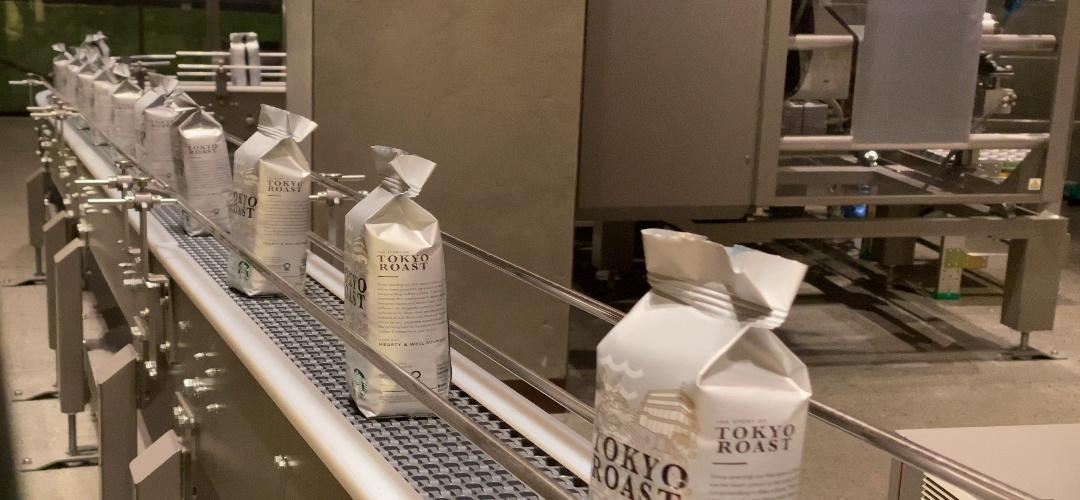conveyor: (595, 337, 796, 498), (341, 212, 444, 342), (233, 139, 310, 236)
